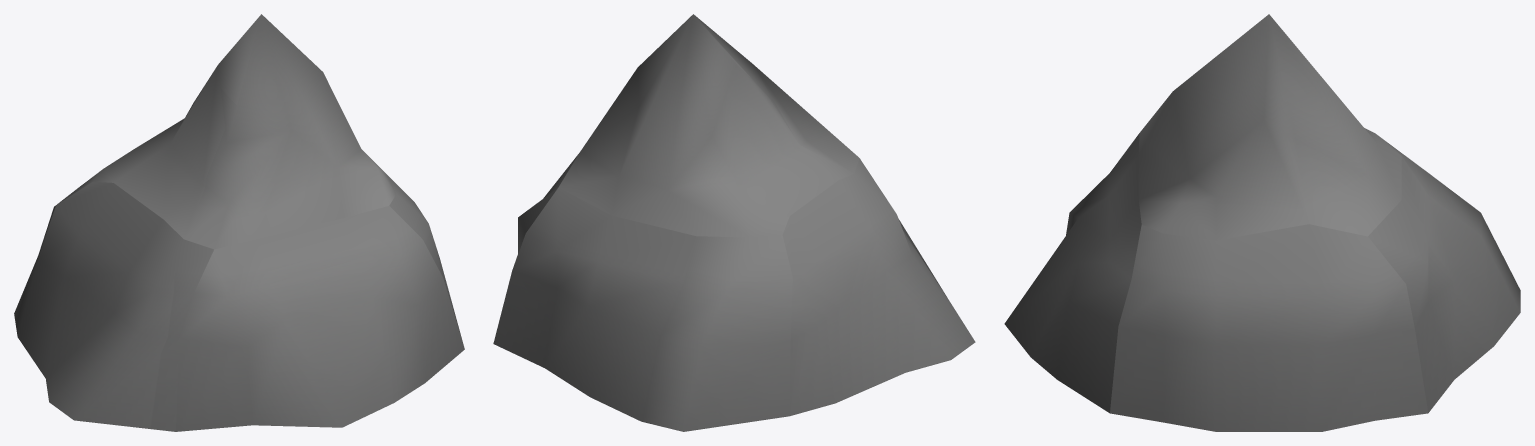
The model's file is rock4.fbx.
The picture shows the model from 3 angles, left to right: view 1: azimuth 30°, elevation 25°; view 2: azimuth 150°, elevation 25°; view 3: azimuth 270°, elevation 25°; orthographic projection. The views are drawn at different scales.
Visible parts, largest first — view 1: pCube1; view 2: pCube1; view 3: pCube1.
Boxes of the visible parts, box(x1,y1,x2,y2) form: pCube1: box(14, 14, 464, 431); pCube1: box(493, 14, 975, 431); pCube1: box(1004, 14, 1520, 431).
Size of the model in its own units: 18.66 by 13.86 by 19.5.
Materials: 1 (1 with a texture image).
